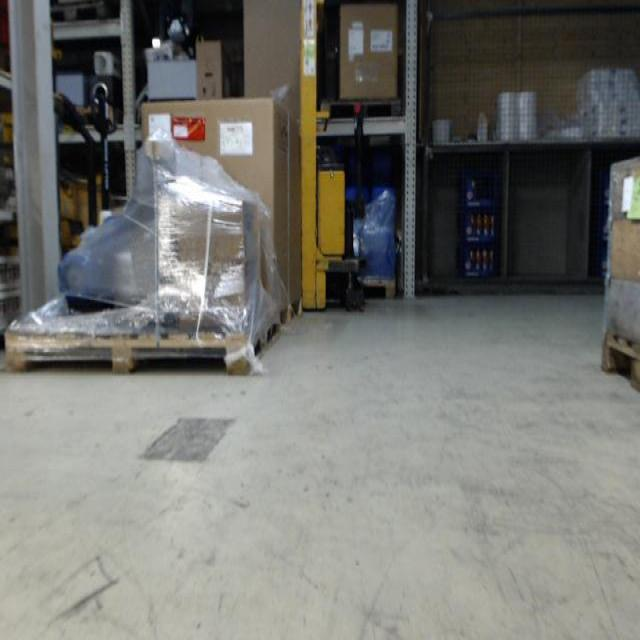pallet: (1, 317, 279, 378), (599, 332, 640, 396), (319, 99, 405, 121), (274, 295, 302, 336), (354, 279, 394, 304)
pallet_truck: (298, 1, 364, 317), (80, 74, 122, 236)
